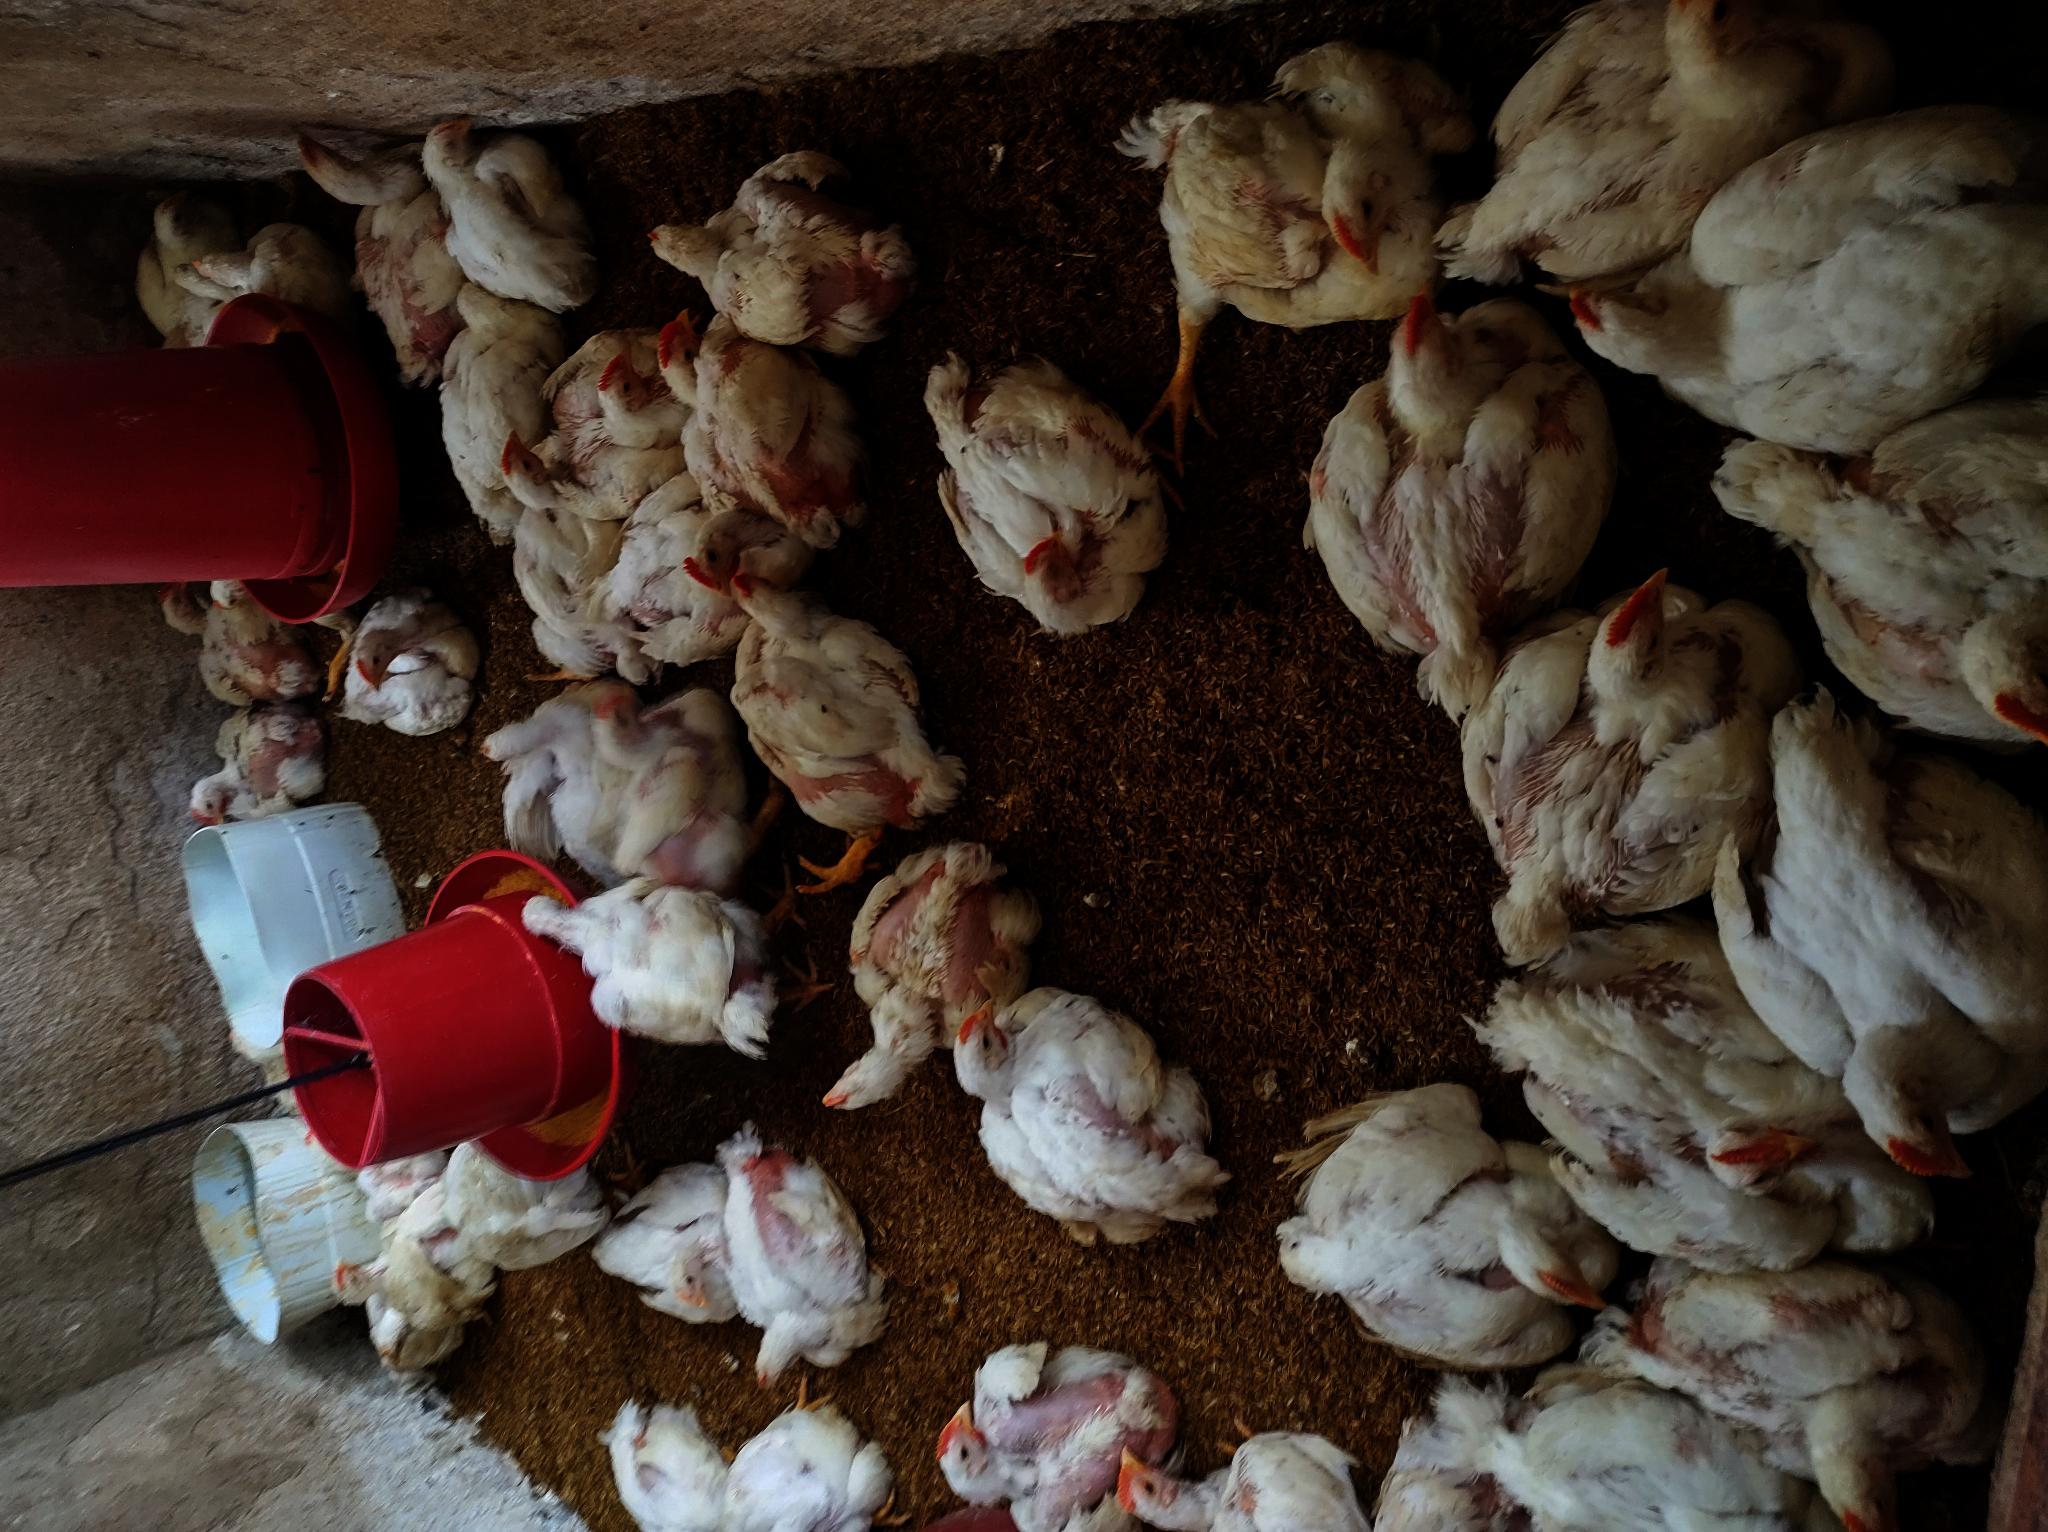Pollos: (1712, 695, 2046, 1184), (1483, 920, 1939, 1275), (1557, 114, 2048, 439), (1459, 558, 1797, 927), (1437, 0, 1871, 282), (1297, 291, 1606, 666), (1712, 406, 2048, 748), (1610, 1238, 2005, 1526), (1269, 1085, 1654, 1353), (1136, 39, 1450, 315), (952, 990, 1224, 1258), (925, 349, 1171, 636), (1379, 1374, 1802, 1532), (714, 571, 957, 837), (816, 834, 1034, 1114), (650, 298, 864, 546), (508, 879, 779, 1070), (930, 1332, 1171, 1532), (635, 145, 890, 332), (278, 121, 470, 365), (586, 1400, 920, 1532), (492, 414, 668, 665), (719, 1138, 883, 1390), (475, 682, 689, 871), (410, 108, 598, 303), (602, 481, 783, 661), (389, 1139, 610, 1286), (590, 689, 746, 892), (431, 277, 550, 537), (1096, 1421, 1367, 1532), (578, 1165, 742, 1328), (536, 328, 726, 446), (336, 595, 483, 737), (325, 1238, 462, 1387), (145, 583, 309, 705), (179, 710, 327, 838), (121, 188, 230, 341), (193, 219, 344, 307)
